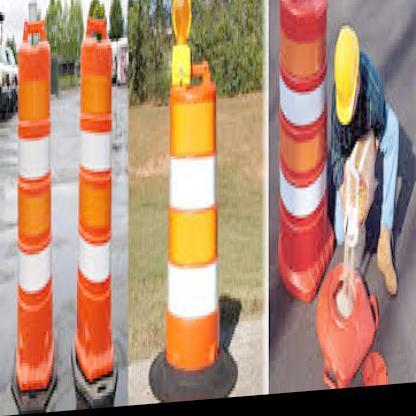obstacle: (271, 0, 333, 306), (164, 76, 218, 376), (73, 38, 115, 381)
